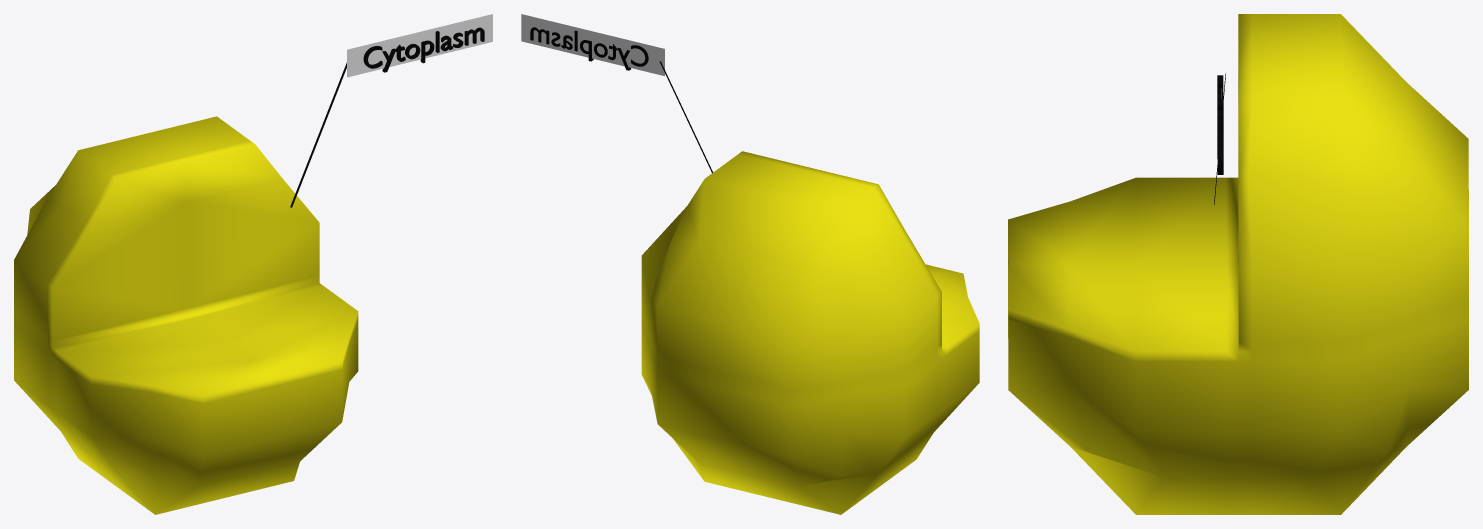
File: cytoplasm.gltf
The picture shows the model from 3 angles, left to right: view 1: azimuth 30°, elevation 25°; view 2: azimuth 150°, elevation 25°; view 3: azimuth 270°, elevation 25°; orthographic projection. The views are drawn at different scales.
Parts seen in each view (by area): view 1: main, Plane.009, Text.011; view 2: main, Plane.009, Text.011; view 3: main, Text.011.
Boxes of the visible parts, left/top/right/bottom form: main: left=14, top=116, right=358, bottom=514; Plane.009: left=347, top=14, right=492, bottom=77; Text.011: left=363, top=27, right=484, bottom=72; main: left=641, top=151, right=979, bottom=514; Plane.009: left=521, top=14, right=664, bottom=76; Text.011: left=530, top=27, right=648, bottom=70; main: left=1008, top=14, right=1468, bottom=514; Text.011: left=1217, top=75, right=1223, bottom=174.
Bounding box in the file's own units: 3.96 × 3.38 × 2.74.
